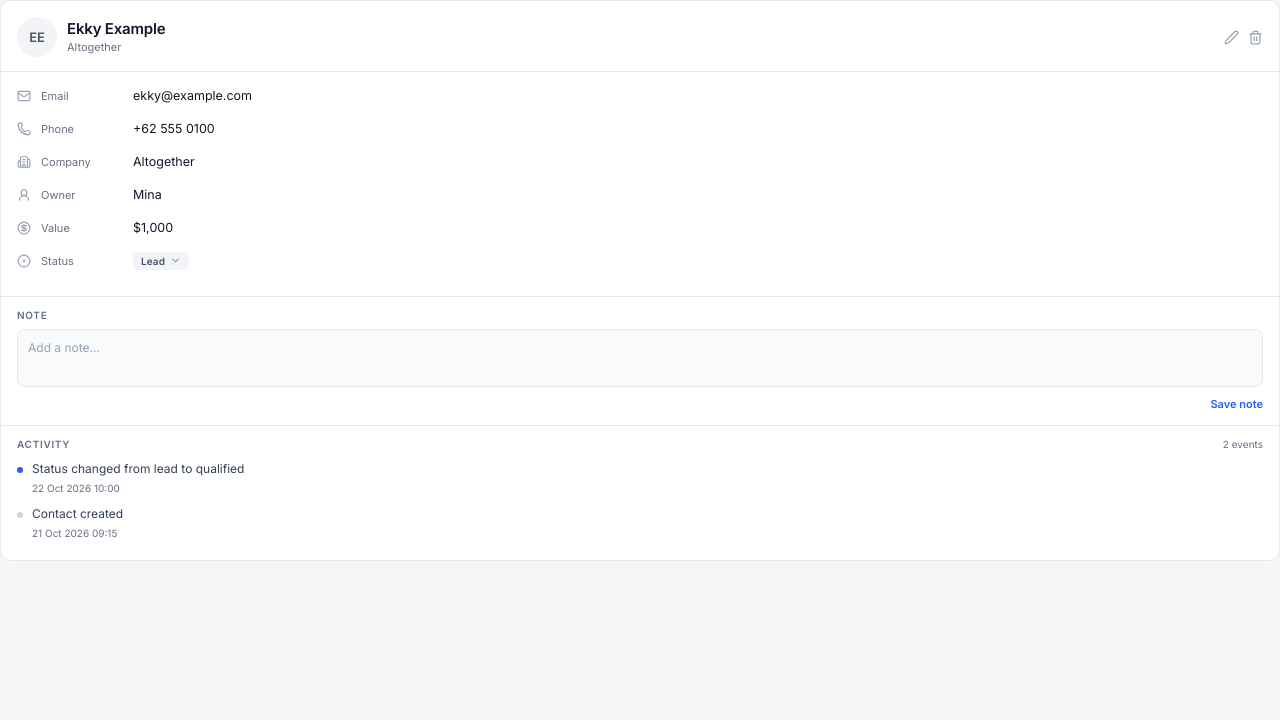
Test: ContactDetail › deletes the contact once the popup is confirmed
This screenshot has width=1280, height=720.
Click the button named "Delete contact" at (1256, 37), box [1248,30,1263,44]
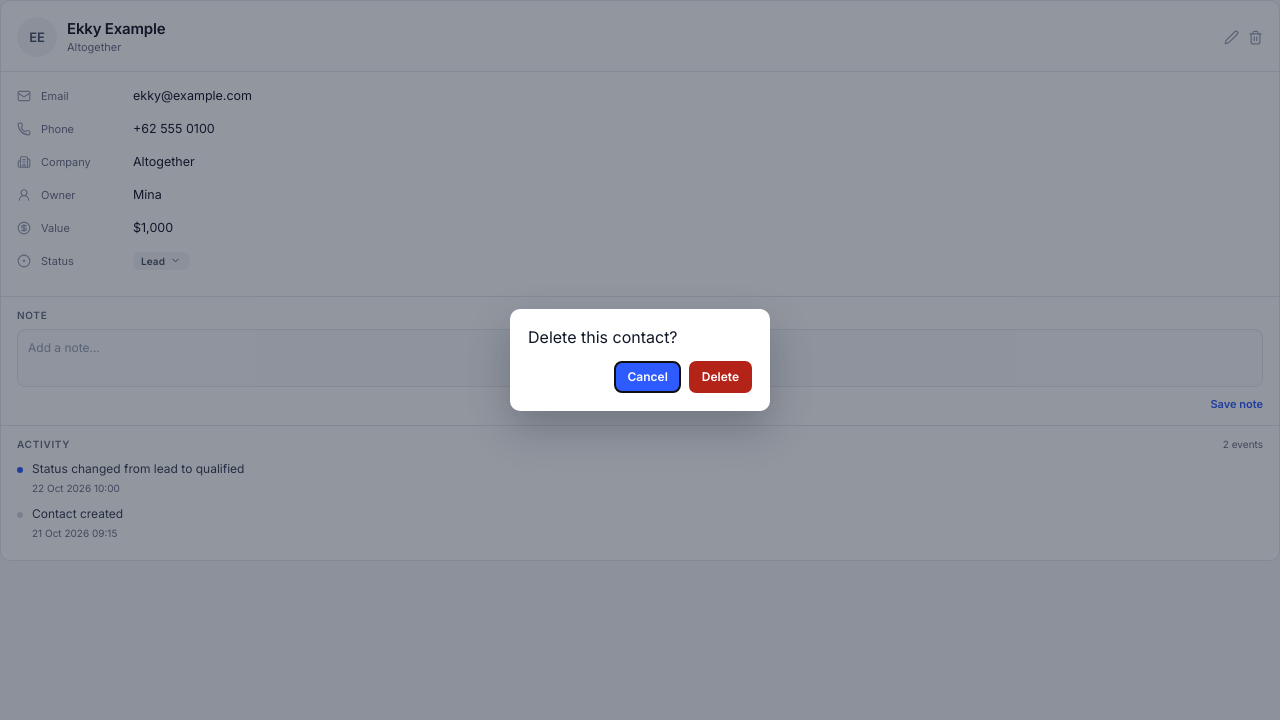
Click the button "Delete" at (720, 377), box [689,361,752,393]
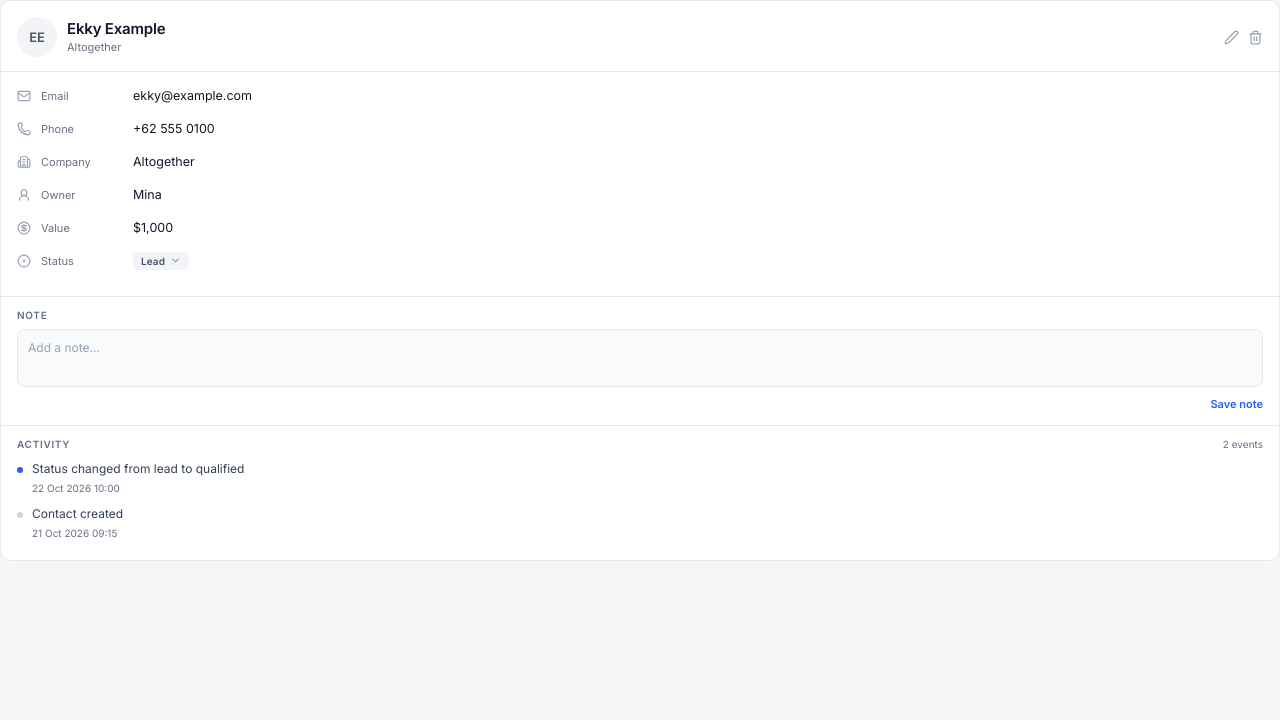
Check: the dialog is gone
